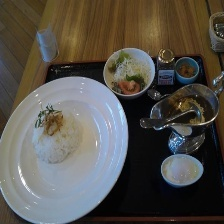rice: (24, 109, 88, 166)
